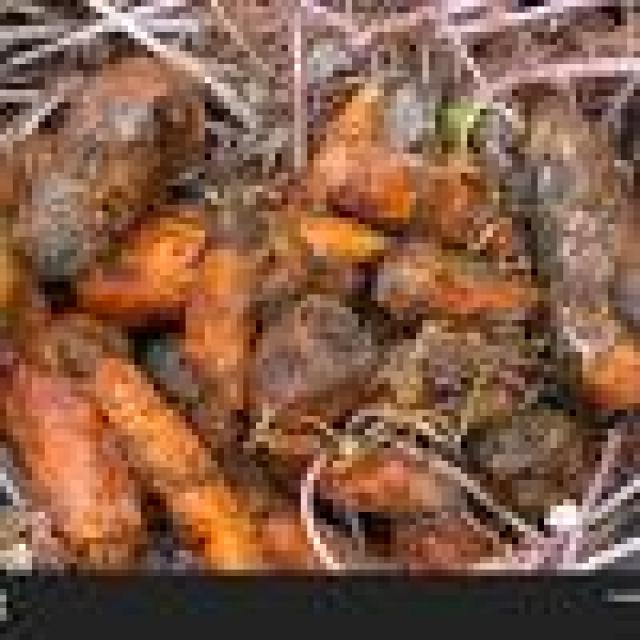Stale_Carrot: (306, 85, 414, 225)
